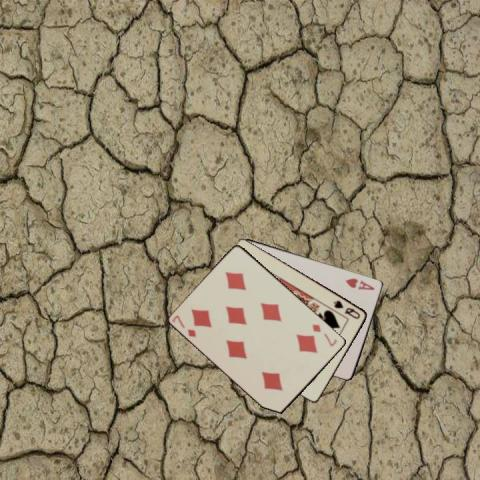7d: (309, 321, 339, 348), (169, 312, 198, 339)
Ah: (343, 275, 376, 291)
Qs: (331, 296, 362, 320)
